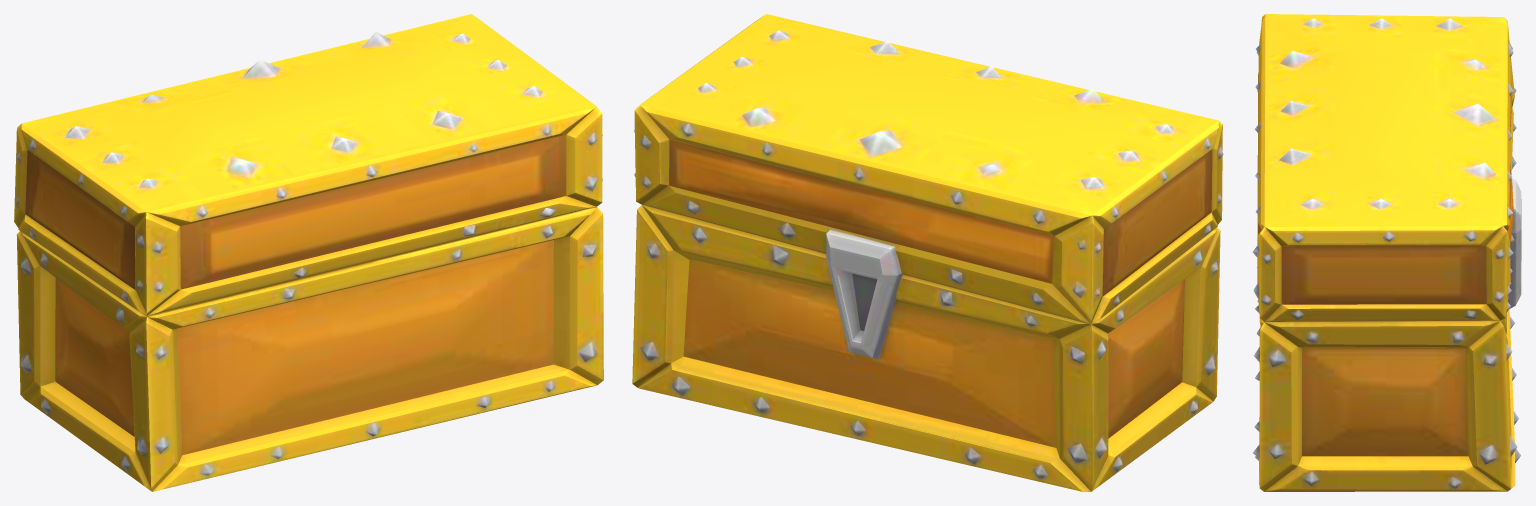
Rendered from obj_chest02_base.gltf.
3 views of the same model, side by side, from view 1: azimuth 30°, elevation 25°; view 2: azimuth 150°, elevation 25°; view 3: azimuth 270°, elevation 25° (orthographic). The views are drawn at different scales.
Visible parts, largest first — view 1: obj_chest02_base; view 2: obj_chest02_base; view 3: obj_chest02_base.
Boxes of the visible parts, <box> form: obj_chest02_base: <box>14,14,603,491</box>; obj_chest02_base: <box>632,14,1223,491</box>; obj_chest02_base: <box>1252,14,1521,491</box>.
Size of what is drawn, in the model's own units: 1.47 by 0.8881 by 0.7629.
Materials: 1 (1 with a texture image).
